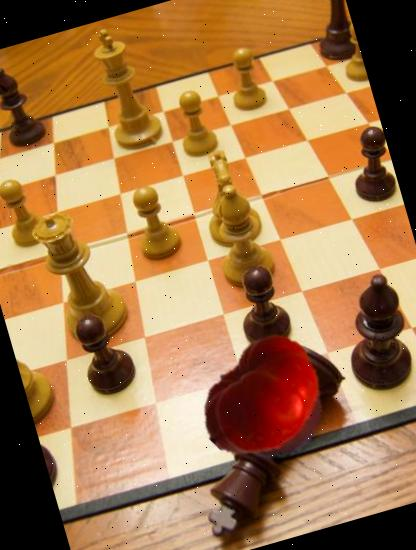Pomegranate: (198, 335, 338, 474)
Tomato: (182, 318, 344, 480)
